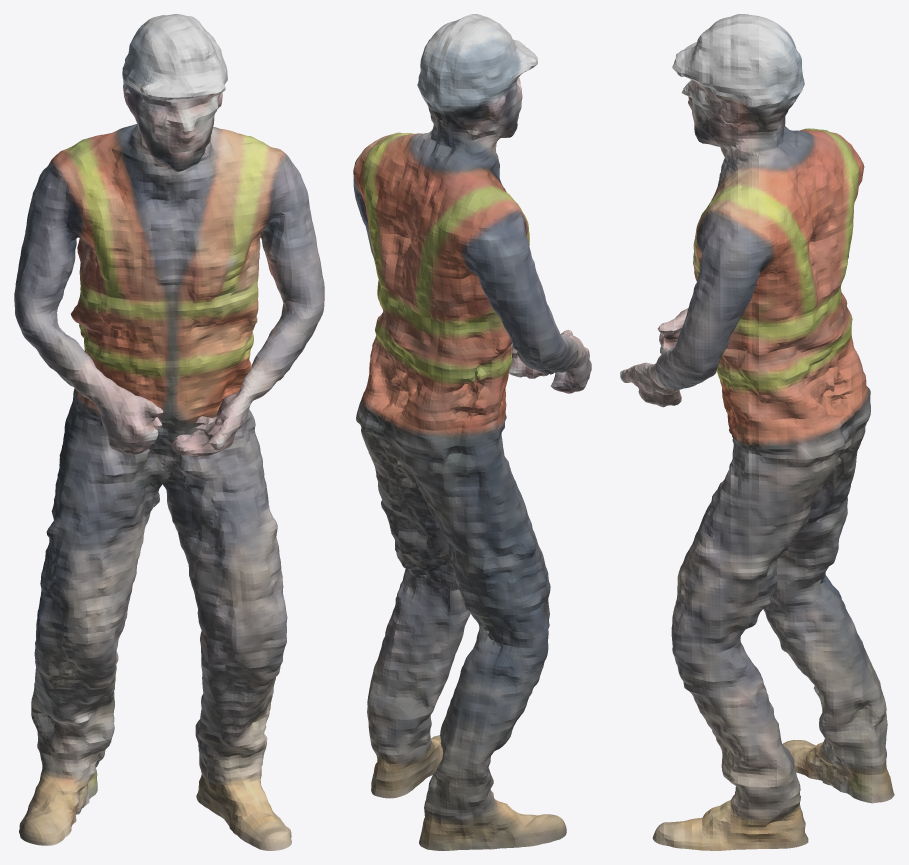
The model's file is standup_18.glb.
3 renders of one model, left to right at view 1: azimuth 30°, elevation 25°; view 2: azimuth 150°, elevation 25°; view 3: azimuth 270°, elevation 25°, orthographic. The views are drawn at different scales.
Parts seen in each view (by area): view 1: world; view 2: world; view 3: world.
Boxes of the visible parts, bbox=[...] form: world: bbox=[14, 14, 324, 850]; world: bbox=[353, 14, 591, 850]; world: bbox=[620, 14, 894, 850].
Bounding box in the file's own units: 0.6262 × 1.93 × 0.6079.
